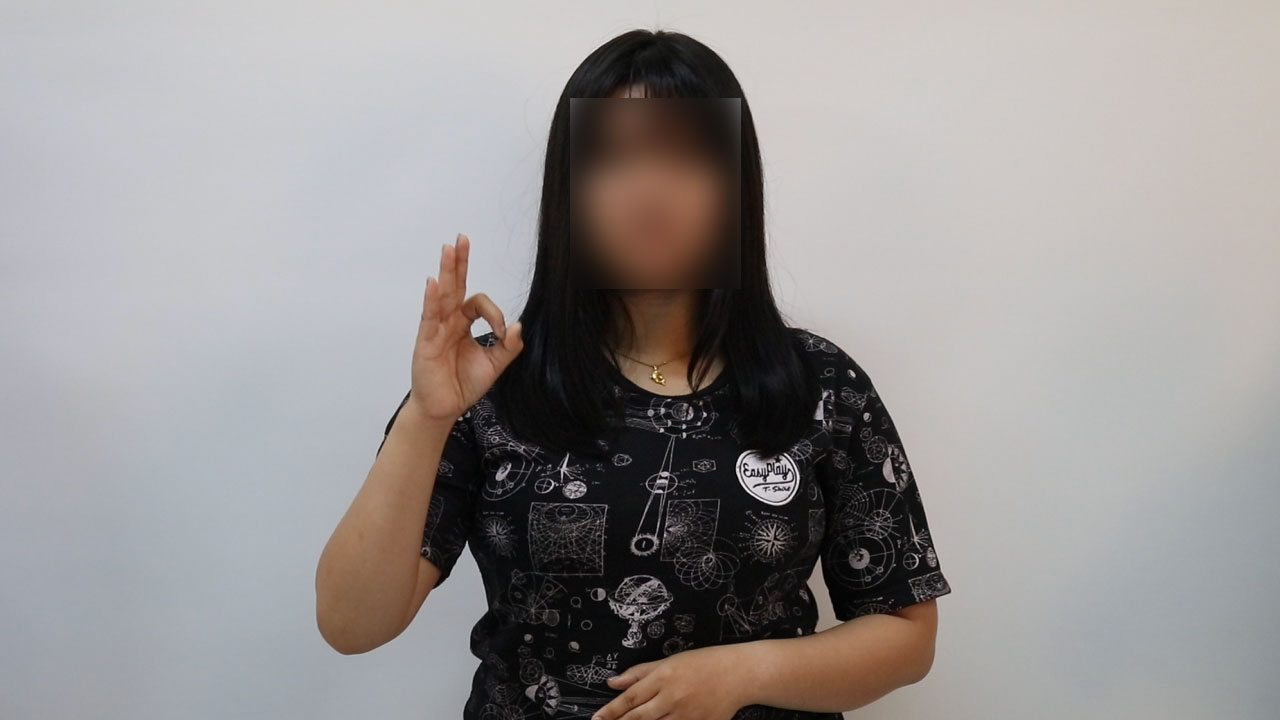for: (389, 223, 529, 427)
